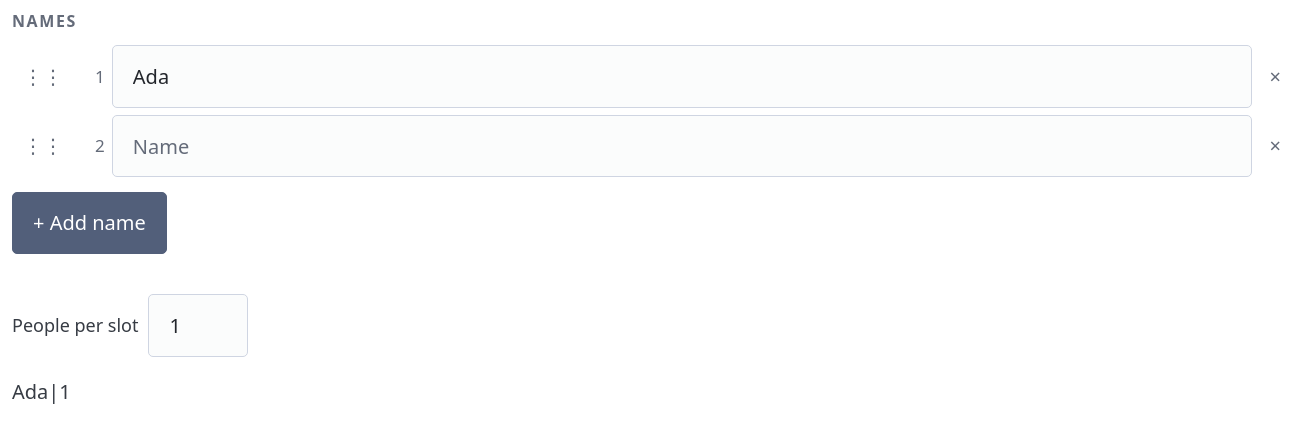
Test: NameList › Backspace on an empty row deletes it
This screenshot has width=1304, height=421.
Click the field named "Name 2": [682, 146] box [112, 115, 1252, 177]
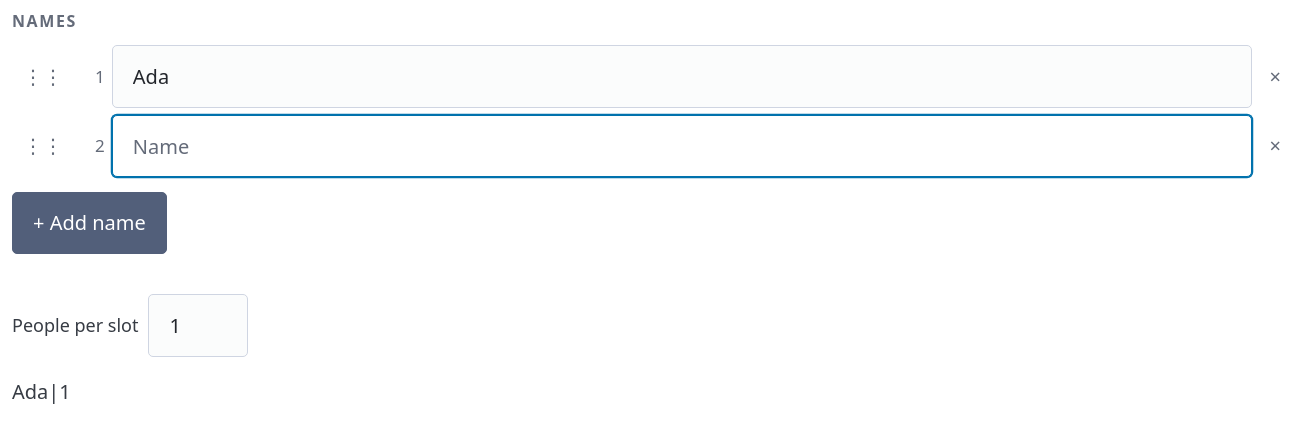
Press Backspace
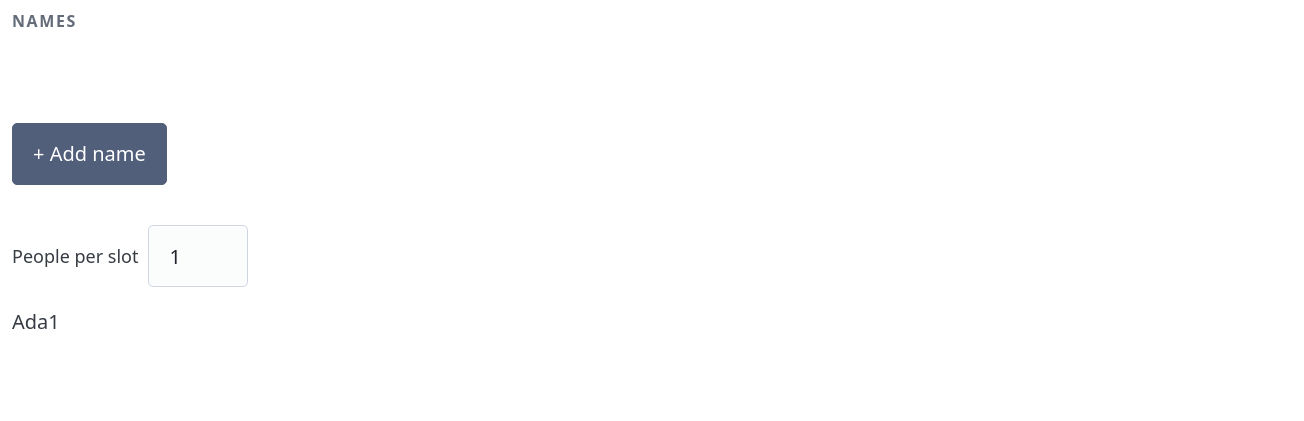
Expected: the text with test id "names" reads "Ada", [12, 308, 48, 335]
